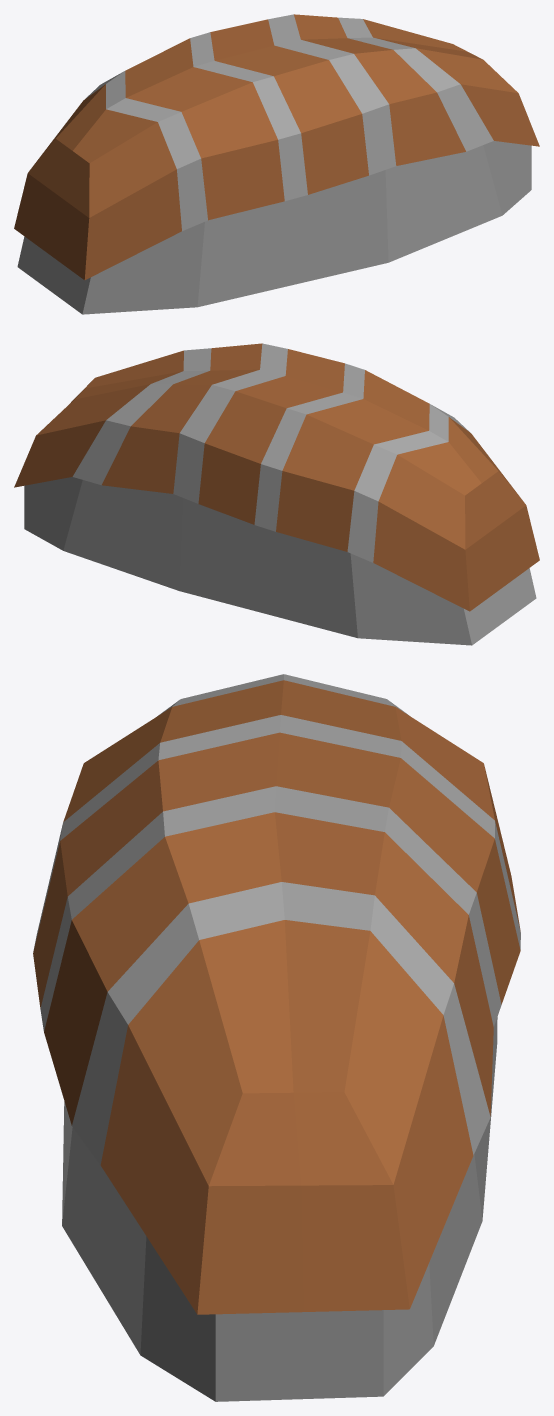
Rendered from Sushi.glb.
3 renders of one model, top to bottom at view 1: azimuth 30°, elevation 25°; view 2: azimuth 150°, elevation 25°; view 3: azimuth 270°, elevation 25°, orthographic. The views are drawn at different scales.
Parts seen in each view (by area): view 1: Sushi_Nigiri1; view 2: Sushi_Nigiri1; view 3: Sushi_Nigiri1.
Part boxes in pixels (left/top/right/bottom): Sushi_Nigiri1: left=14, top=14, right=539, bottom=314; Sushi_Nigiri1: left=14, top=343, right=539, bottom=645; Sushi_Nigiri1: left=33, top=674, right=520, bottom=1401.
Bounding box in the file's own units: 0.8964 × 0.3515 × 0.4074.
